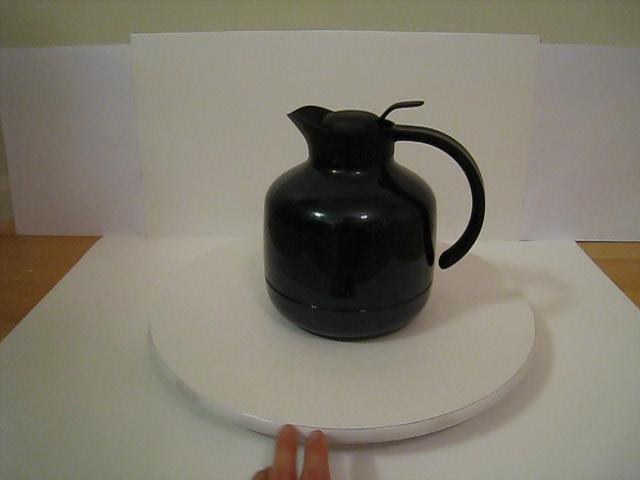pitcher: (250, 67, 519, 358)
